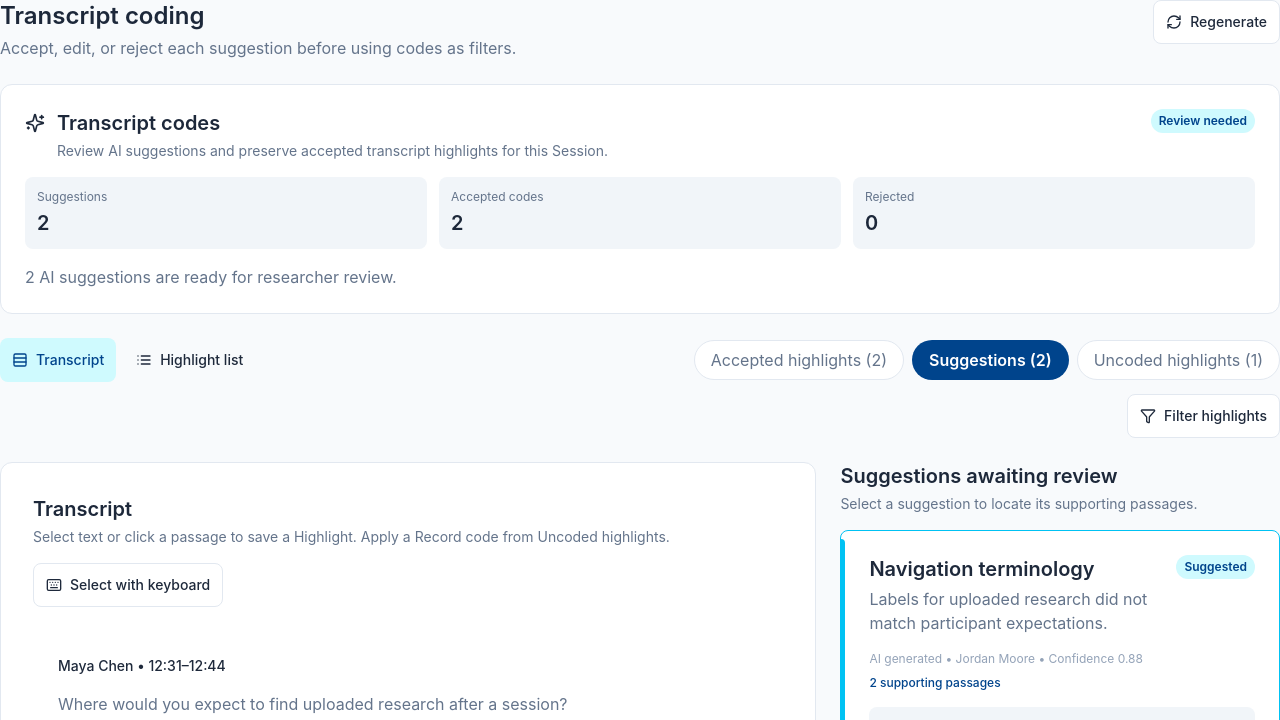
Test case: Transcript Coding Workspace filters › disables right-rail Code application when the Session has no Record
Click the tab "Uncoded highlights (1)".
click(1178, 360)  # box [1077,340,1279,380]
(page scrolled)
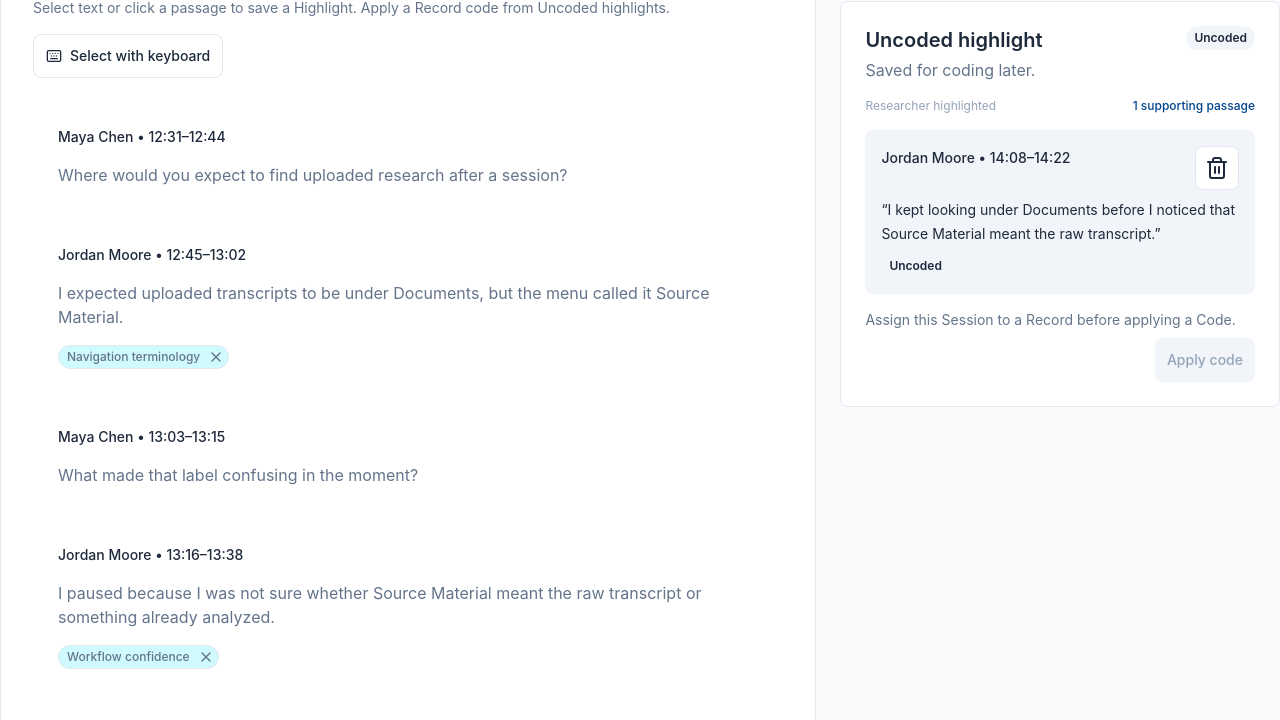
Result: the button "Apply code" is disabled at [1155,338,1255,382]
